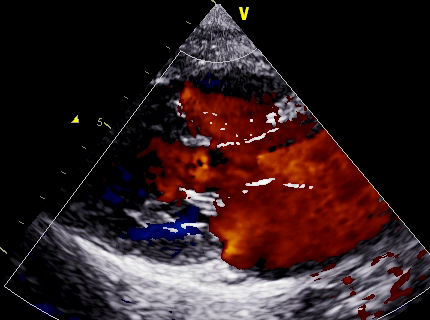AR: (153, 132, 311, 191)
